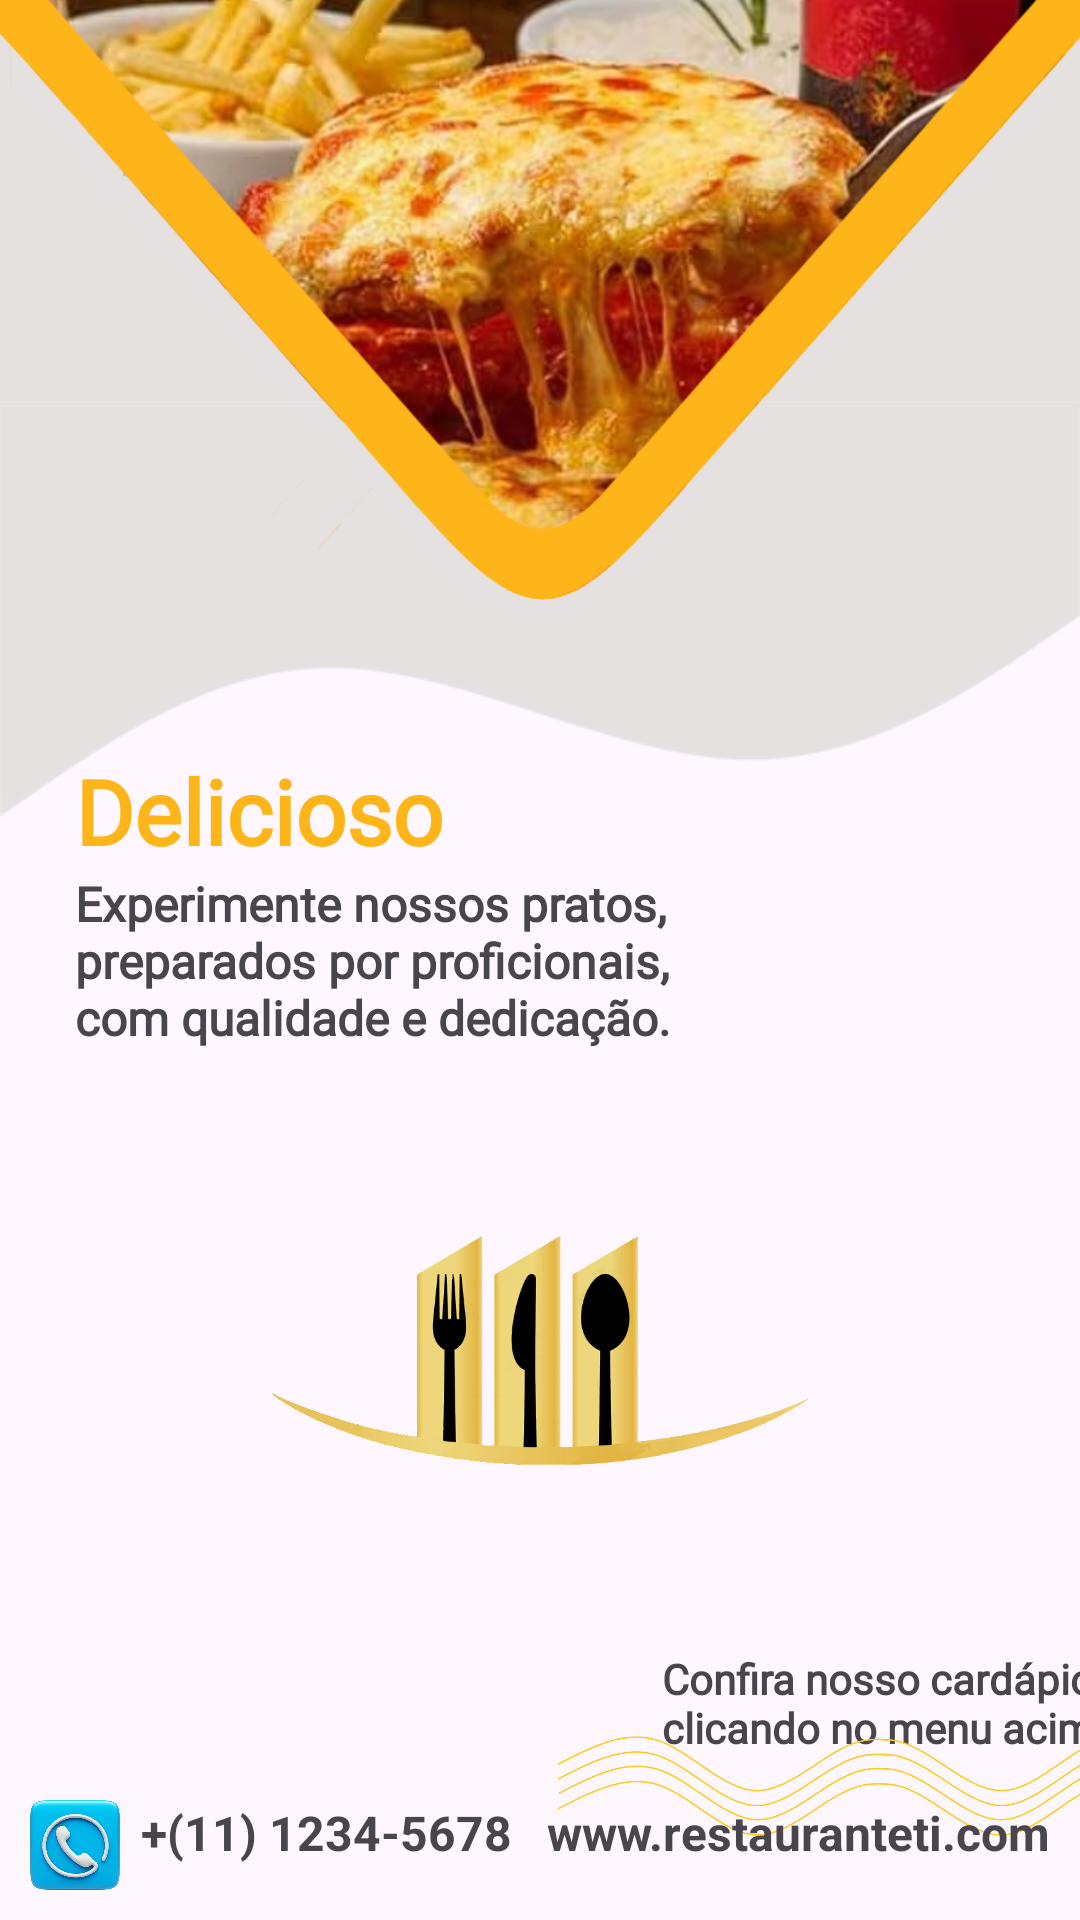

Named icons in this screenshot (1080x1920) and their bounding boxes, (x1, y1, x2, y2):
contato: (30, 1800, 120, 1890)
